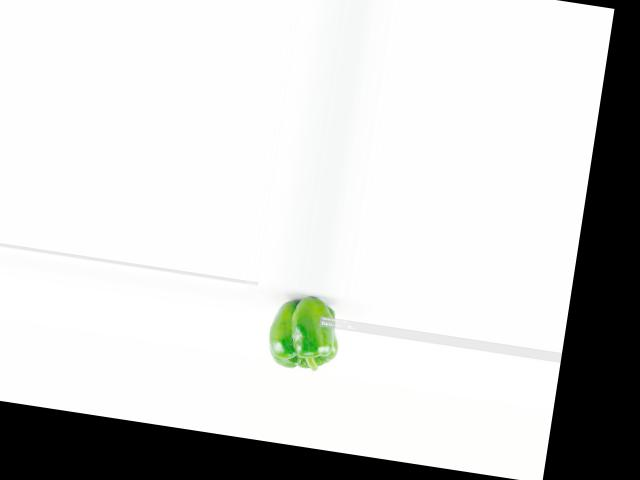bell_pepper: (261, 287, 344, 378)
